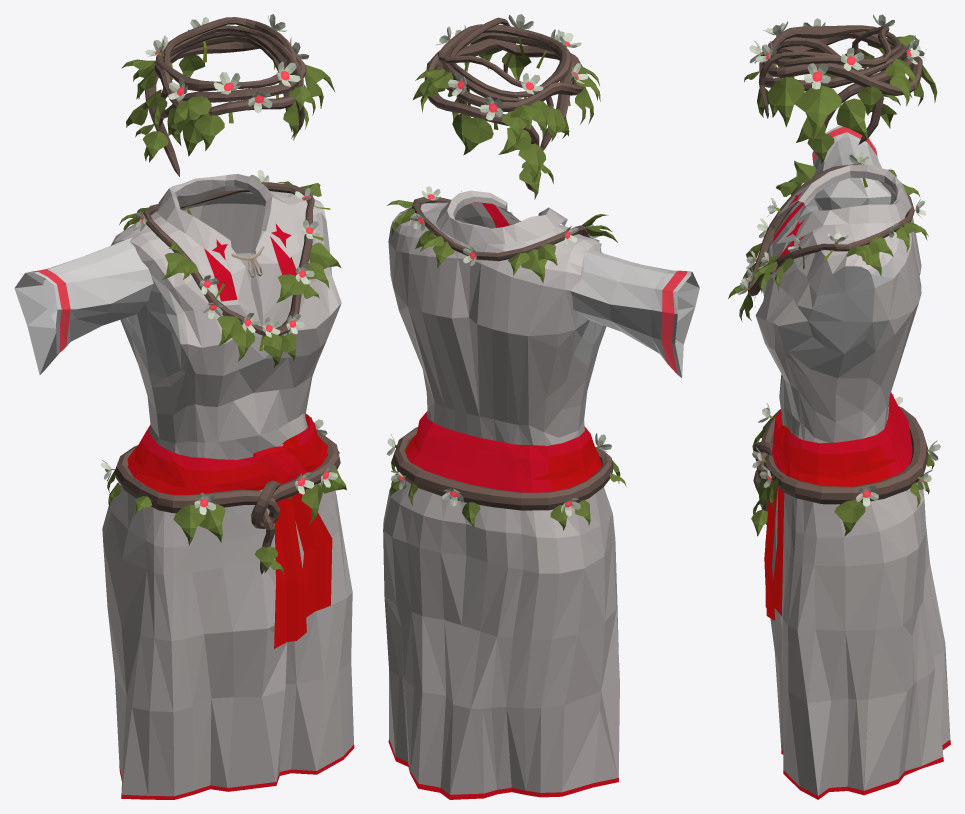
Rendered from flowerDressFemale.glb.
3 views of the same model, side by side, from view 1: azimuth 30°, elevation 25°; view 2: azimuth 150°, elevation 25°; view 3: azimuth 270°, elevation 25° (orthographic). The views are drawn at different scales.
Parts seen in each view (by area): view 1: flowerDress.002, flowerHat, flowerDresstUpperArm; view 2: flowerDress.002, flowerHat, flowerDresstUpperArm; view 3: flowerDress.002, flowerHat, flowerDresstUpperArm.
Part boxes in pixels (bbox=[...]): flowerDress.002: bbox=[100, 170, 354, 799]; flowerHat: bbox=[121, 14, 335, 176]; flowerDresstUpperArm: bbox=[14, 237, 153, 374]; flowerDress.002: bbox=[383, 186, 626, 799]; flowerHat: bbox=[413, 14, 600, 199]; flowerDresstUpperArm: bbox=[570, 250, 699, 377]; flowerDress.002: bbox=[728, 150, 950, 799]; flowerHat: bbox=[744, 14, 937, 163]; flowerDresstUpperArm: bbox=[812, 125, 891, 210].
Size of the model in its own units: 0.6419 by 1.46 by 0.4077.
